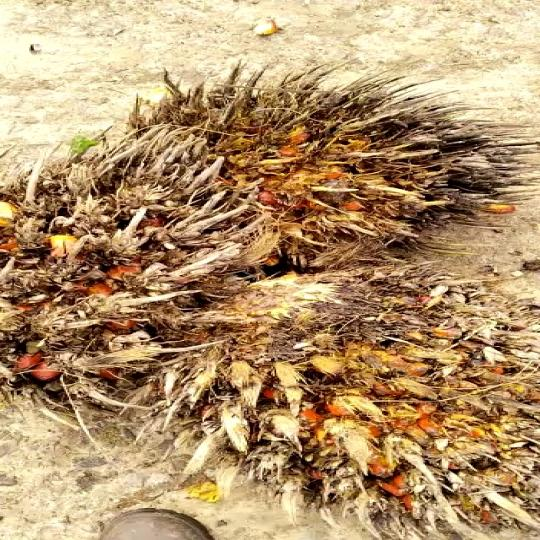terlalu masak: (138, 251, 540, 540), (73, 64, 521, 268)
